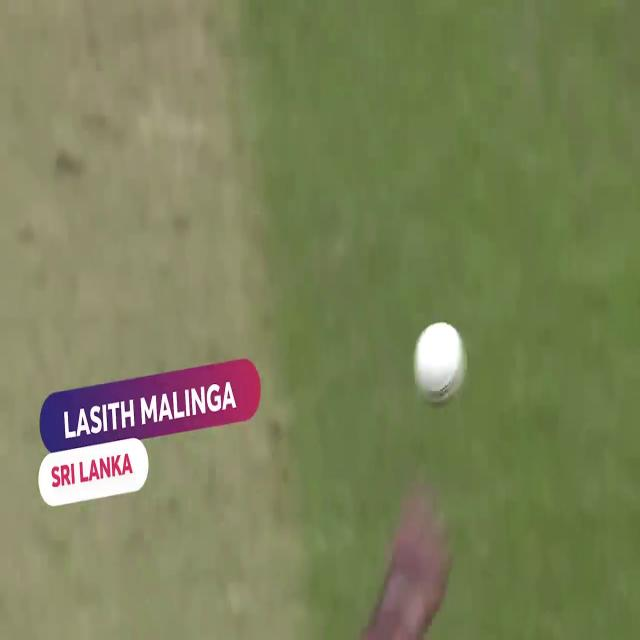ball: (403, 302, 473, 414)
